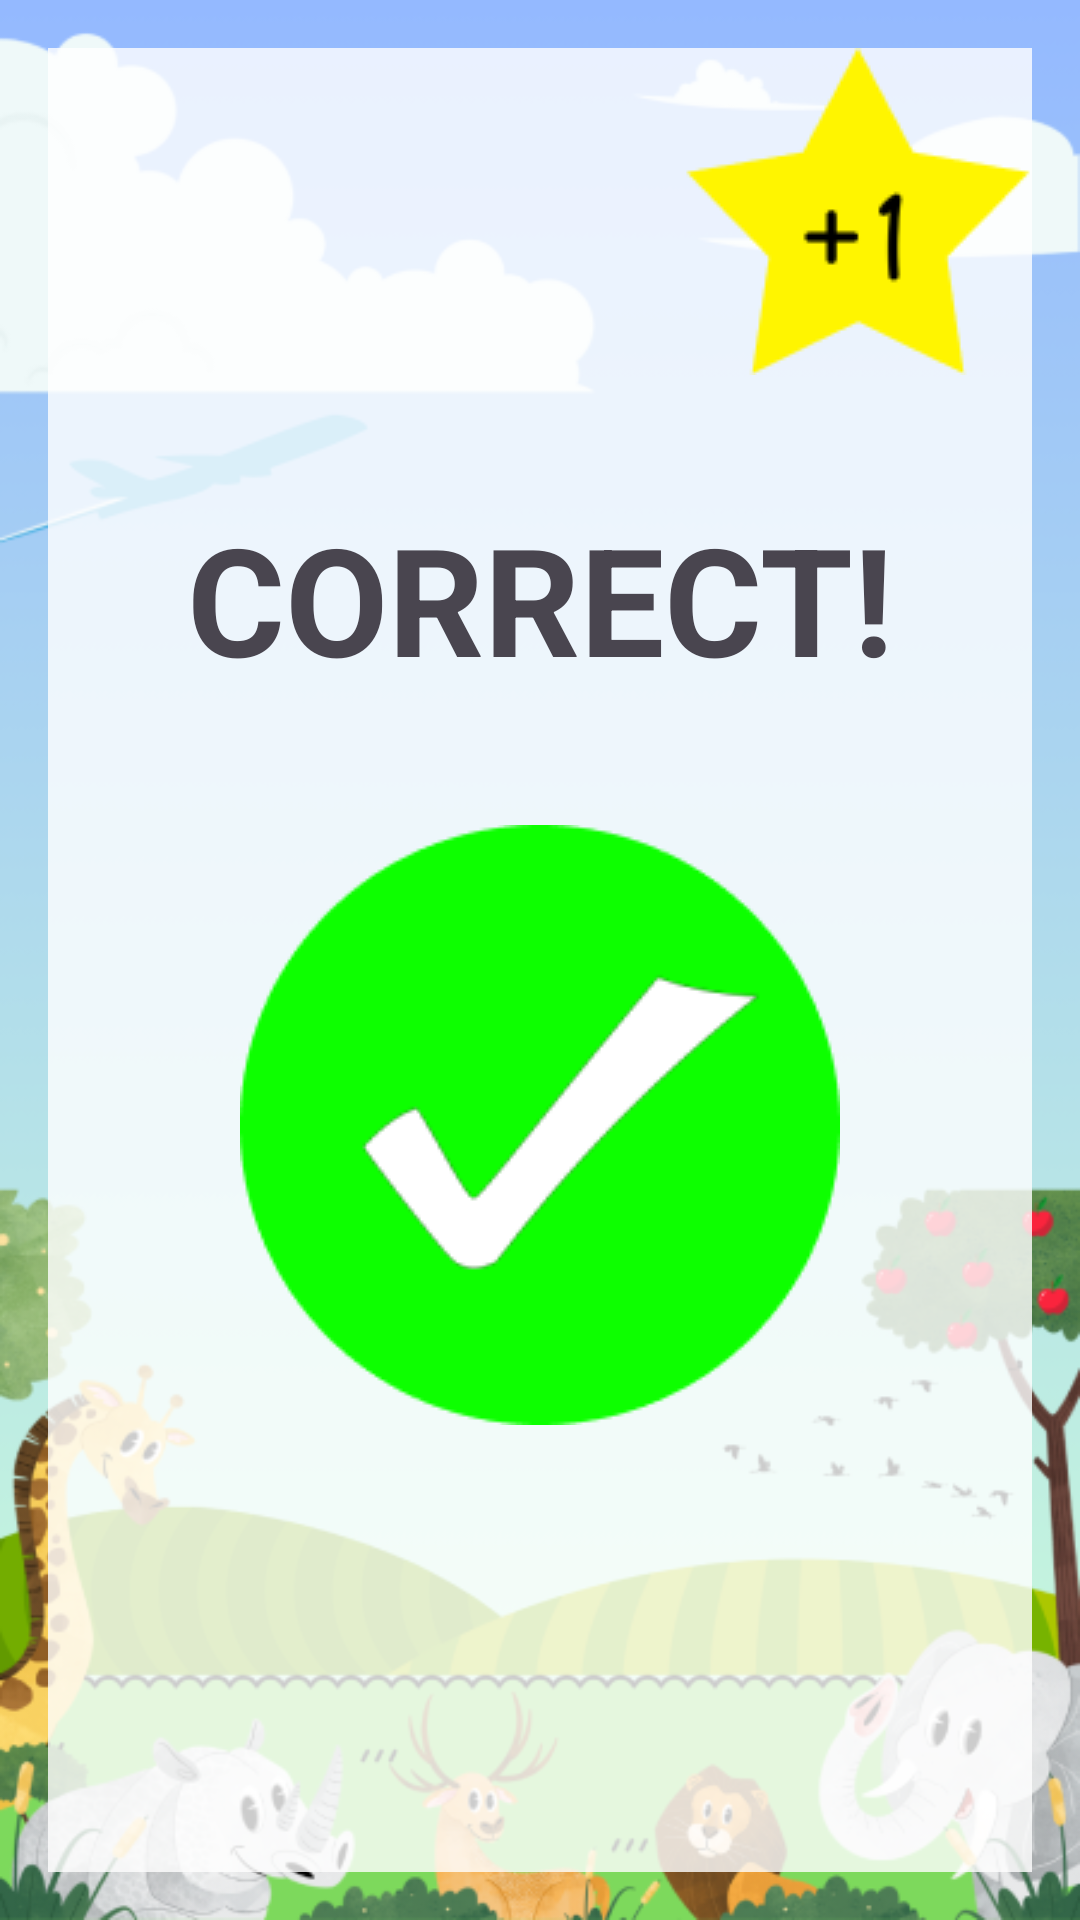

Icon click points for this 1080px x 1920px phone screenshot, format point (x, y):
poinbenar: point (858, 211)
